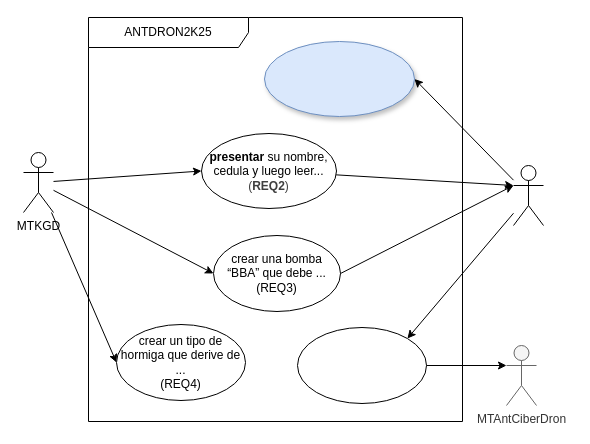
Image size: 590x444. Some labels were removed from this diagram. Here are the shapes that lost their labels. From the top down, the centre of each, then its label:
At [340,80]: "Crear un archivo “ApellidoNombre.csv” .... ( REQ1 )".
At [528,195]: "MTSistemaRuso".
At [361,365]: "implementar la inteligencia artificial ... (REQ5)".
